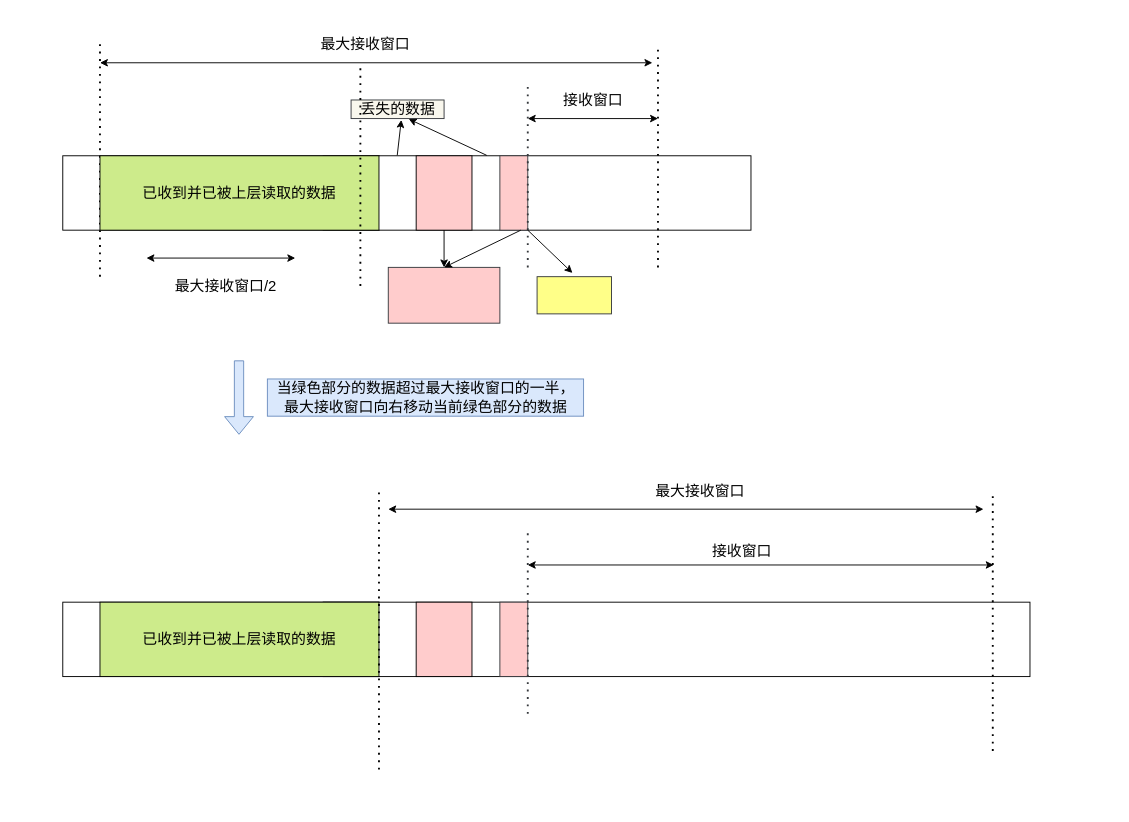
Some shapes in this 1129 by 822 pixel diagram are drawn without their labels. Here are the shapes that lost their labels. From the top down, the box of each, then its label:
(387, 266, 500, 323): 已收到， 但是乱序的数据
(536, 276, 611, 314): 收到的 最大偏移
